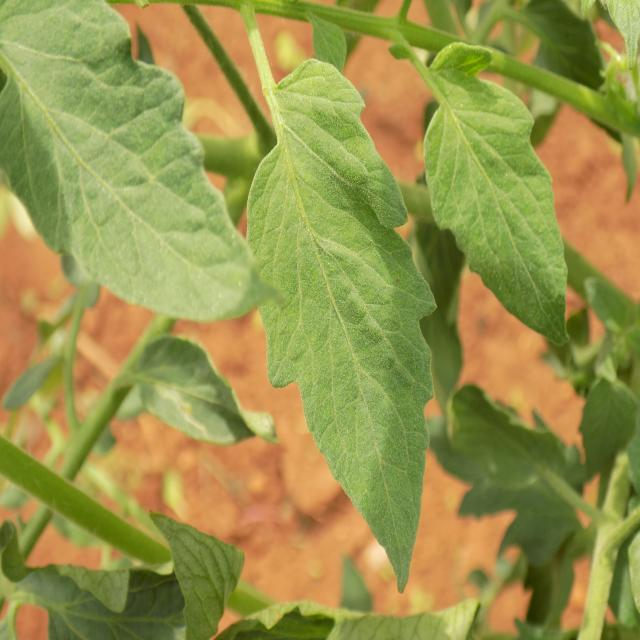tomato_healthy: (249, 58, 436, 592), (424, 35, 572, 375), (130, 327, 268, 448)
